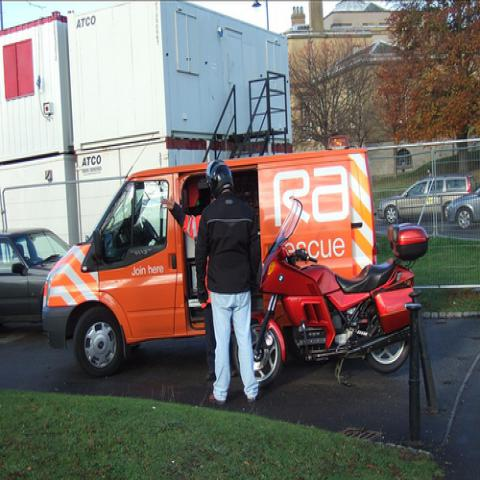car: (0, 226, 71, 328), (375, 173, 474, 222), (448, 185, 479, 231)
motorcycle: (249, 196, 430, 388)
truck: (43, 144, 378, 377)
